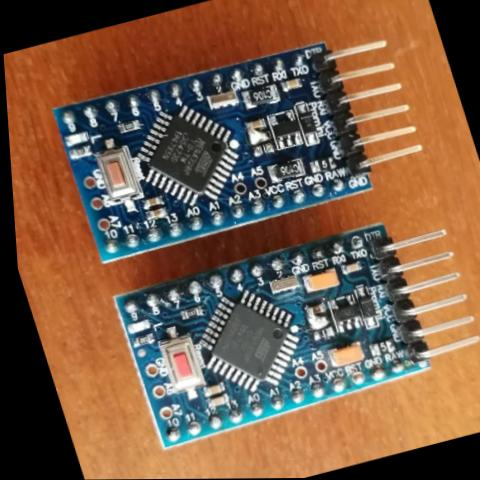Arduino-Pro-Mini: (22, 3, 480, 278)
